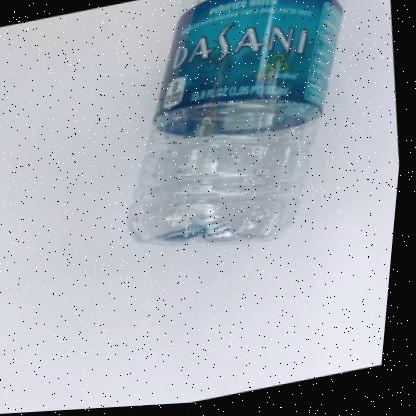Plastic: (132, 0, 342, 247)
